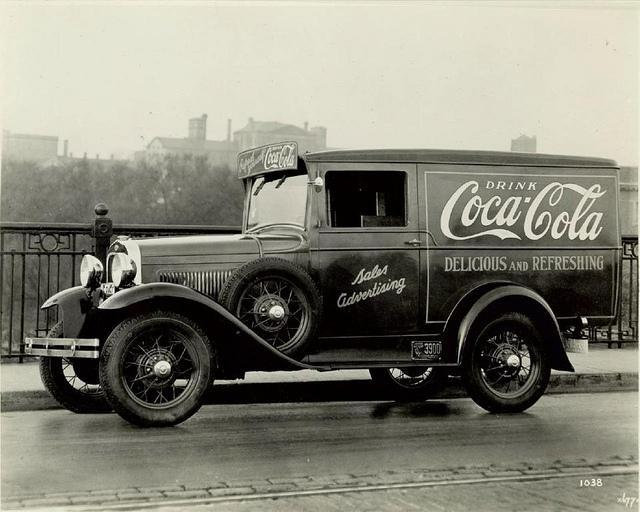car: (21, 138, 622, 436)
truck: (23, 142, 620, 428)
